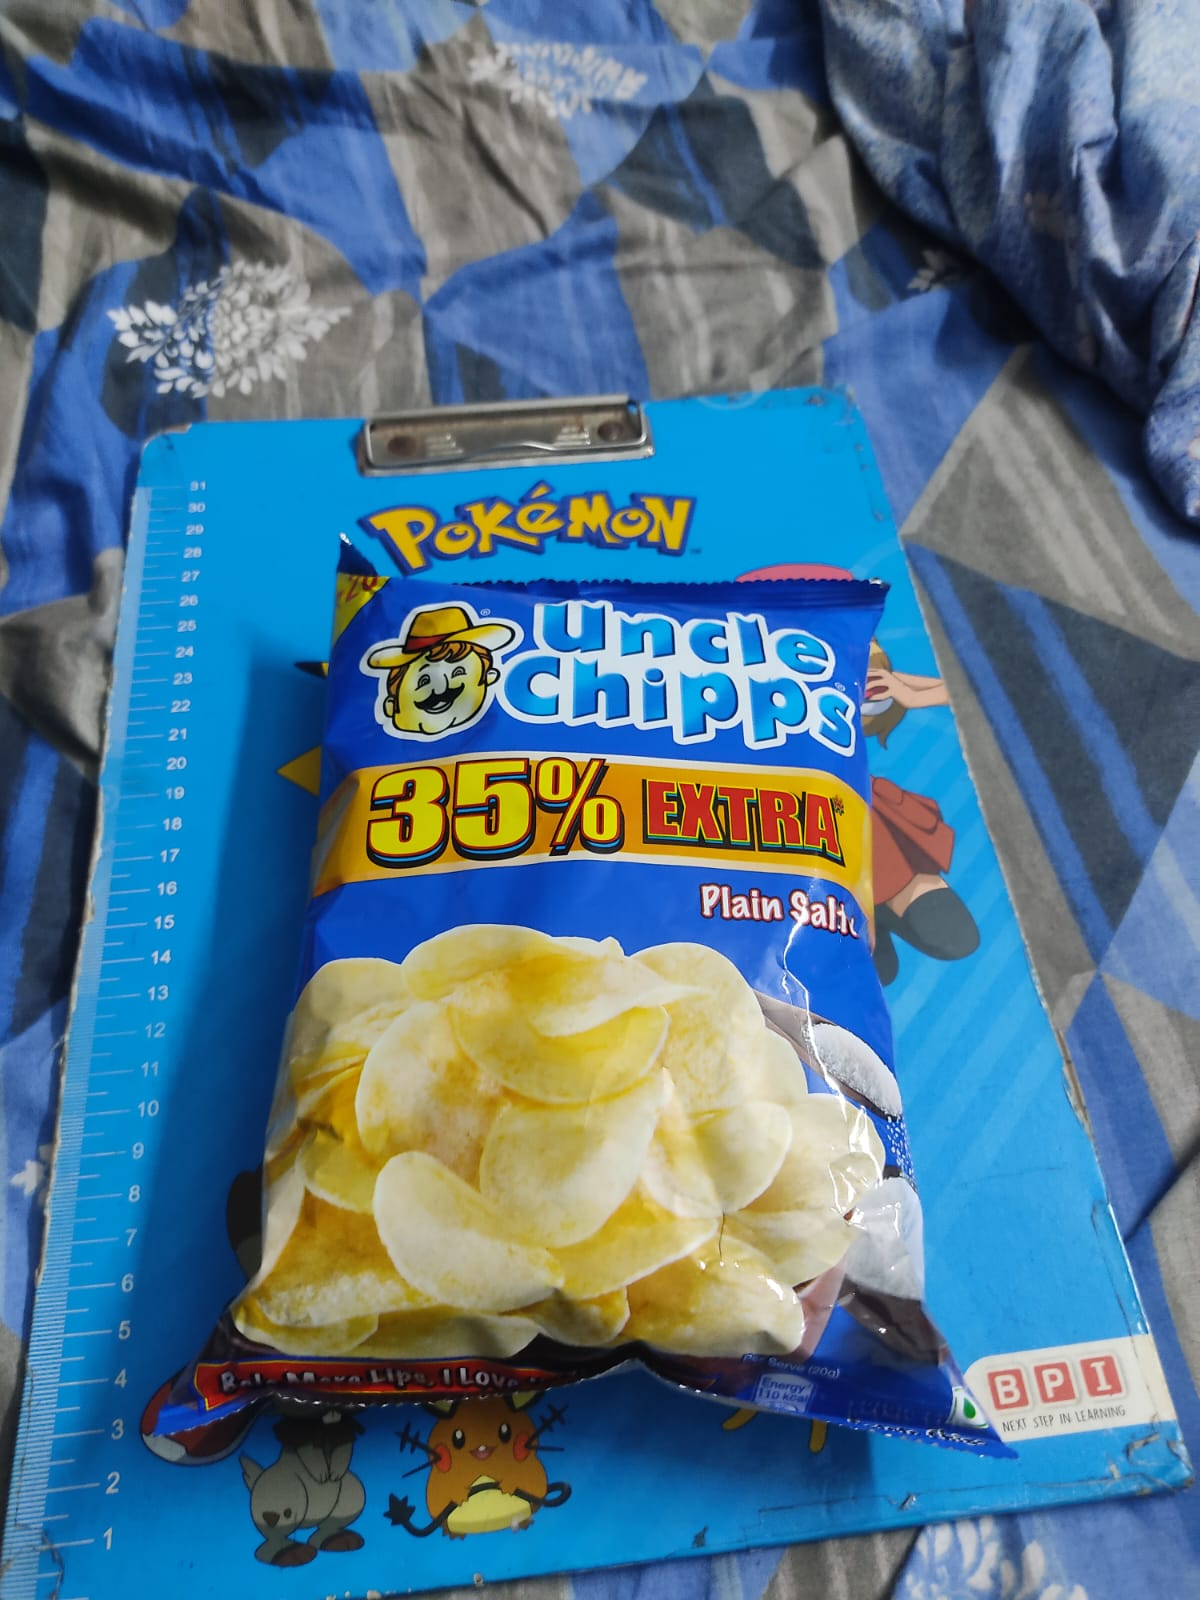020_UncleChips: (241, 576, 925, 1387)
